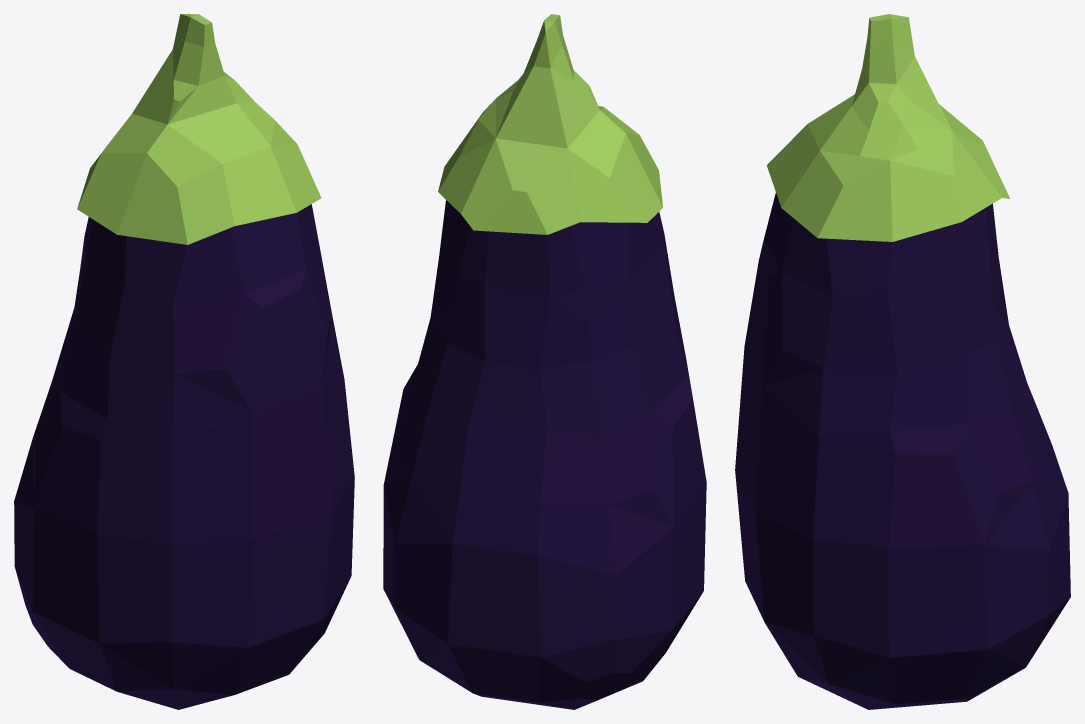
The model's file is eggplant.fbx.
3 views of the same model, side by side, from view 1: azimuth 30°, elevation 25°; view 2: azimuth 150°, elevation 25°; view 3: azimuth 270°, elevation 25° (orthographic). The views are drawn at different scales.
Parts seen in each view (by area): view 1: Eggplant; view 2: Eggplant; view 3: Eggplant.
Part boxes in pixels (left/top/right/bottom): Eggplant: left=14, top=14, right=354, bottom=709; Eggplant: left=383, top=14, right=706, bottom=709; Eggplant: left=735, top=14, right=1070, bottom=709.
Bounding box in the file's own units: 107 × 240 × 109.
